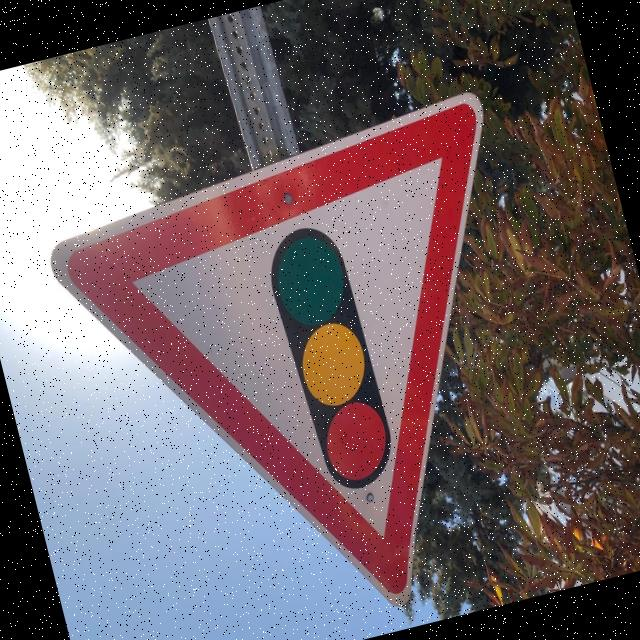light_traffic: (33, 82, 598, 640)
